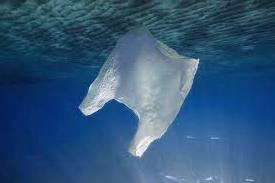Trash: (62, 10, 208, 164)
